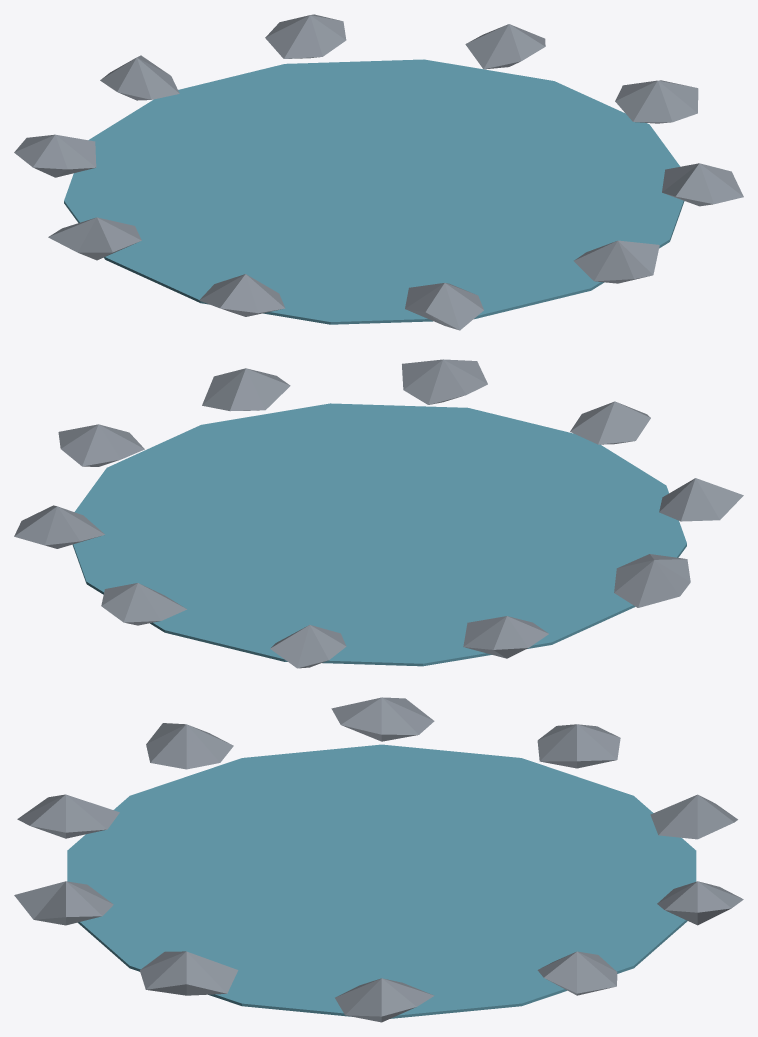
Rendered from cave_pool_water.glb.
The picture shows the model from 3 angles, top to bottom: view 1: azimuth 30°, elevation 25°; view 2: azimuth 150°, elevation 25°; view 3: azimuth 270°, elevation 25°; orthographic projection. The views are drawn at different scales.
Visible parts, largest first — view 1: cave_pool_water_Mesh; view 2: cave_pool_water_Mesh; view 3: cave_pool_water_Mesh.
Part boxes in pixels (x1,y1,x2,y2): cave_pool_water_Mesh: (14,14,743,330); cave_pool_water_Mesh: (14,359,743,668); cave_pool_water_Mesh: (14,697,743,1022).
Size of the model in its own units: 3.87 by 0.2575 by 3.74.
